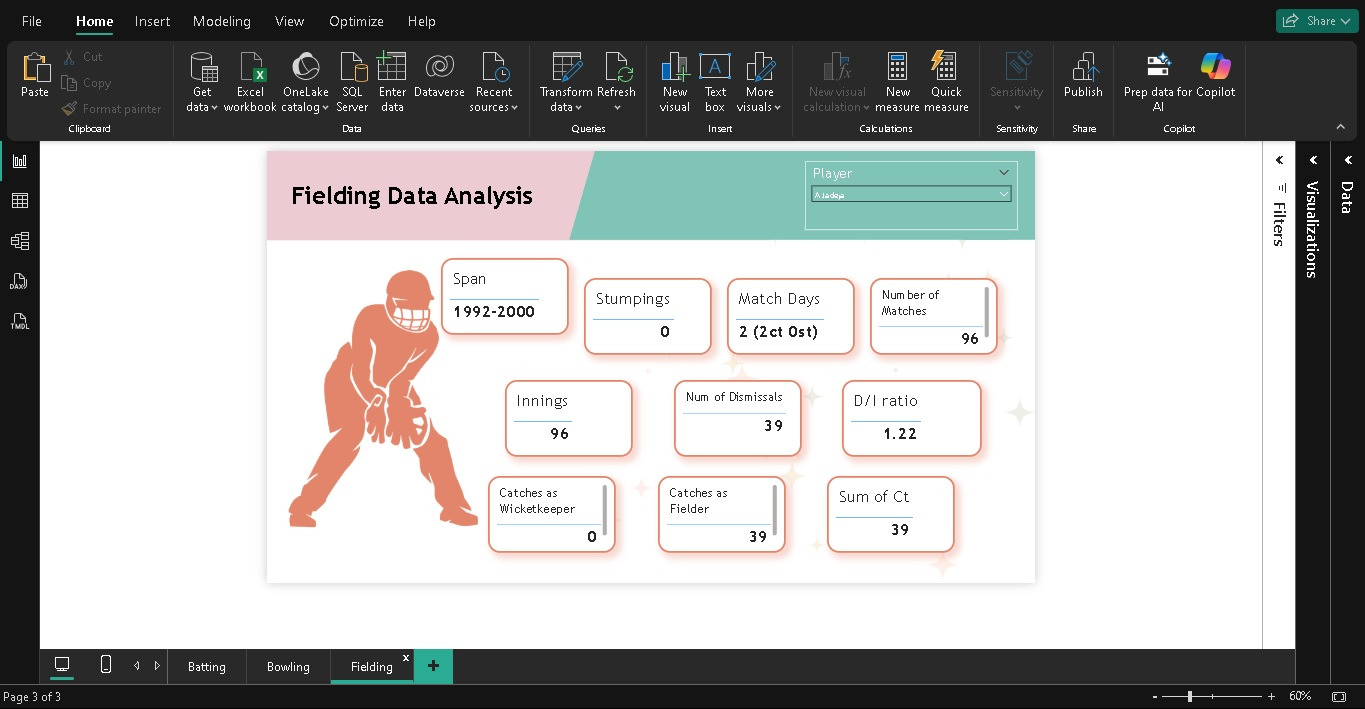

The page's visual inventory and layout, read from the dashboard file:
{"tool":"powerbi","page":{"name":"Fielding","canvas":[1280,720],"ordinal":2},"visuals":[{"type":"shape","box":[0,0,839.1,148.8],"z":0},{"type":"shape","box":[503.3,0,776.7,148.3],"z":1000},{"type":"shape","box":[1158.3,0,121.7,148.3],"z":2000},{"type":"slicer","fields":{"Values":["Fielding.Player"]},"box":[896.7,16.7,355,115],"z":2001},{"type":"tableEx","fields":{"Values":["Fielding.Span"]},"box":[290,178.3,213.3,128.3],"z":2002},{"type":"tableEx","fields":{"Values":["Sum(Fielding.St)"]},"box":[528.3,211.7,213.3,128.3],"z":2004},{"type":"tableEx","fields":{"Values":["Sum(Fielding.Inns)"]},"box":[396.7,381.7,213.3,128.3],"z":2005},{"type":"tableEx","fields":{"Values":["Sum(Fielding.Dis)"]},"box":[677.5,381.7,213.3,128.3],"z":2006},{"type":"tableEx","fields":{"Values":["Fielding.MD"]},"box":[766.7,211.7,213.3,128.3],"z":2007},{"type":"tableEx","fields":{"Values":["Sum(Fielding.Ct Fi)"]},"box":[650.8,541.7,213.3,128.3],"z":2008},{"type":"tableEx","fields":{"Values":["Sum(Fielding.Ct Wk)"]},"box":[368.3,541.7,213.3,128.3],"z":2009},{"type":"tableEx","fields":{"Values":["Sum(Fielding.D/I)"]},"box":[958.3,381.7,233.3,128.3],"z":2010},{"type":"tableEx","fields":{"Values":["Sum(Fielding.Mat)"]},"box":[1005,211.7,213.3,128.3],"z":2011},{"type":"tableEx","fields":{"Values":["Sum(Fielding.Ct)"]},"box":[933.3,541.7,213.3,128.3],"z":2012}]}

Visuals, with their boxes on the page's 1280x720 design canvas (x1, y1, x2, y2). These are canvas units, not pixel positions in the 1365x709 screenshot, which may show the page scaled, cropped or inside an application window:
shape: detection(0, 0, 839, 149)
shape: detection(503, 0, 1280, 148)
shape: detection(1158, 0, 1280, 148)
slicer - Fielding.Player: detection(897, 17, 1252, 132)
tableEx - Fielding.Span: detection(290, 178, 503, 307)
tableEx - Sum(Fielding.St): detection(528, 212, 742, 340)
tableEx - Sum(Fielding.Inns): detection(397, 382, 610, 510)
tableEx - Sum(Fielding.Dis): detection(678, 382, 891, 510)
tableEx - Fielding.MD: detection(767, 212, 980, 340)
tableEx - Sum(Fielding.Ct Fi): detection(651, 542, 864, 670)
tableEx - Sum(Fielding.Ct Wk): detection(368, 542, 582, 670)
tableEx - Sum(Fielding.D/I): detection(958, 382, 1192, 510)
tableEx - Sum(Fielding.Mat): detection(1005, 212, 1218, 340)
tableEx - Sum(Fielding.Ct): detection(933, 542, 1147, 670)
